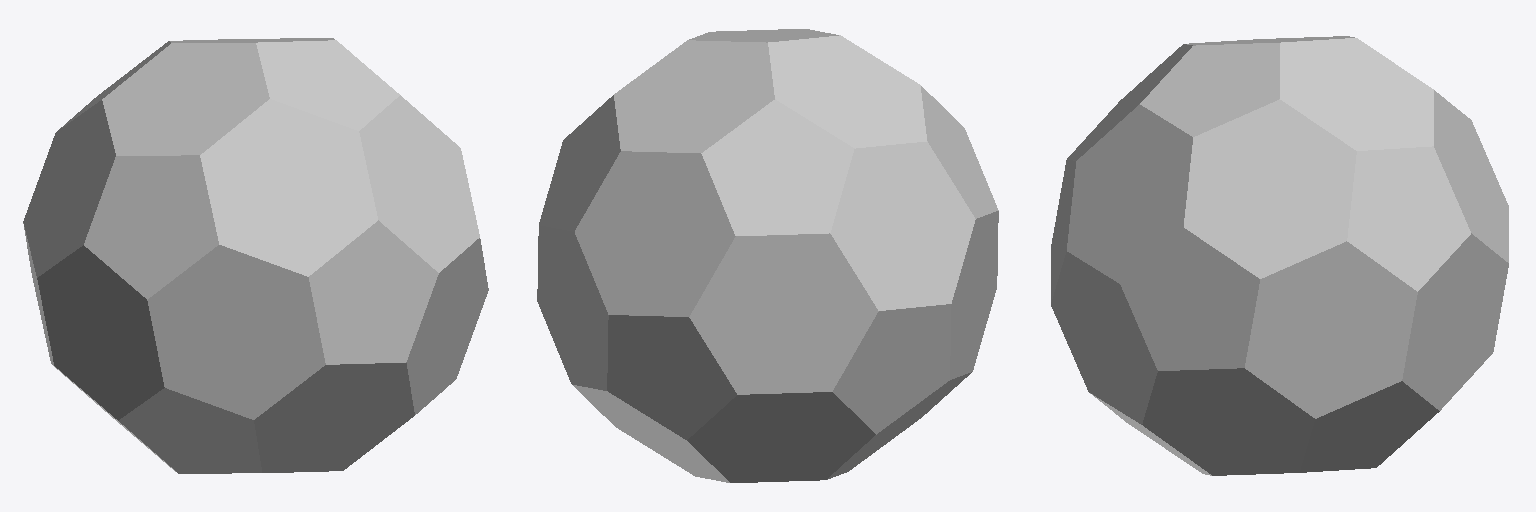
The model's file is spherev2.obj.
3 views of the same model, side by side, from view 1: azimuth 30°, elevation 25°; view 2: azimuth 150°, elevation 25°; view 3: azimuth 270°, elevation 25° (orthographic).
Visible parts, largest first — view 1: pSolid1; view 2: pSolid1; view 3: pSolid1.
Part boxes in pixels (x1,y1,x2,y2): pSolid1: (23, 38, 488, 473); pSolid1: (537, 29, 998, 482); pSolid1: (1051, 36, 1508, 475).
Size of the model in its own units: 1.97 by 2 by 1.95.